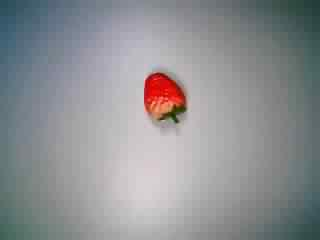strawberry: (131, 64, 191, 129)
